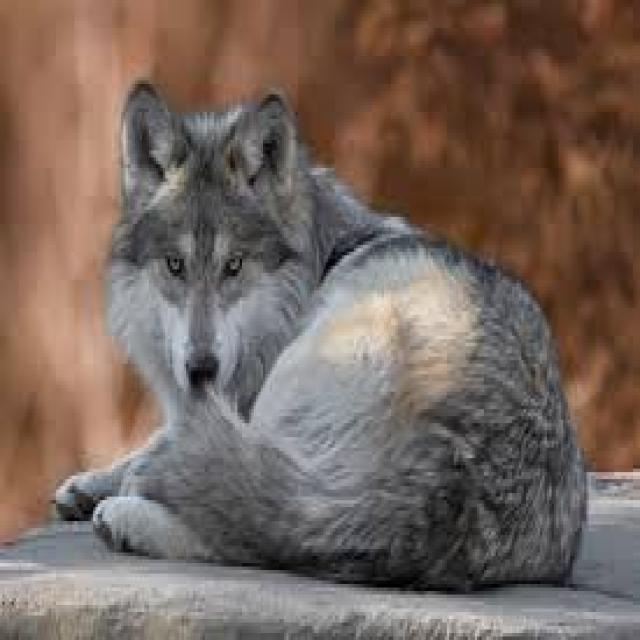Wolf: (53, 77, 589, 591)
